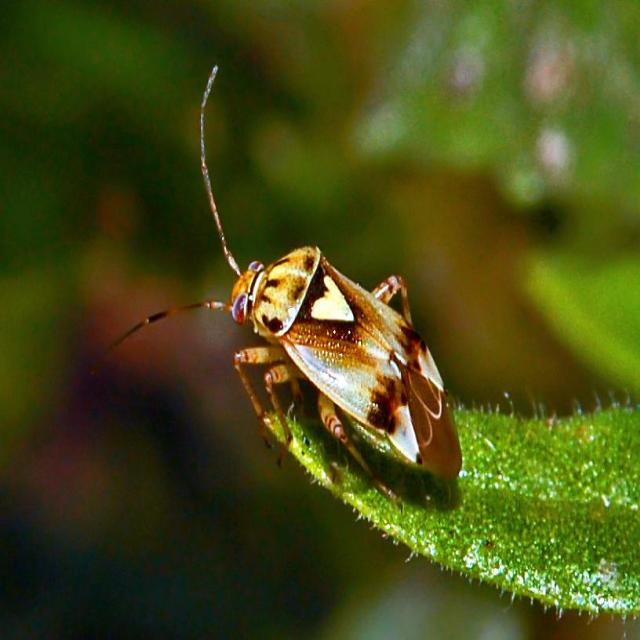Miridae-Adult-: (167, 63, 477, 511)
